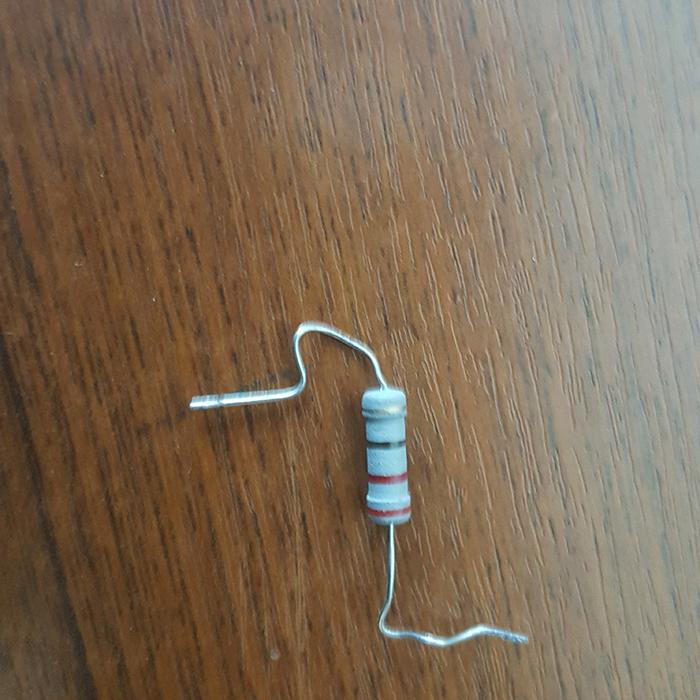resistor: (361, 387, 411, 526)
